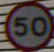Speed limit: (2, 3, 50, 45)
